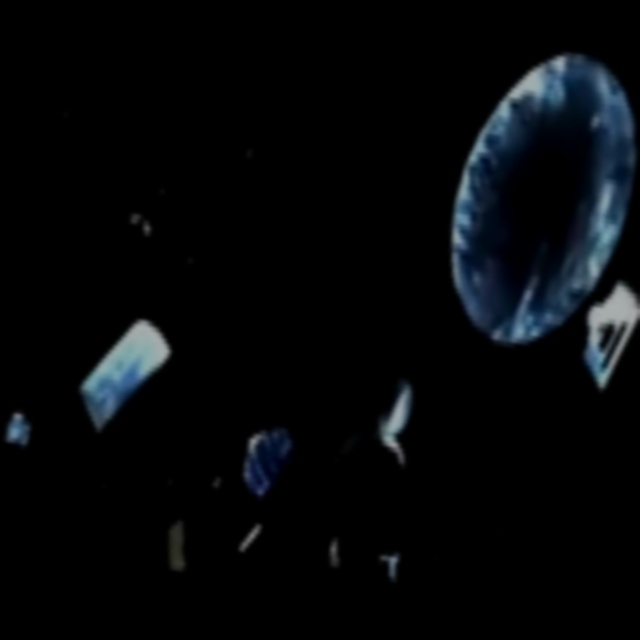large_debris: (417, 30, 640, 367)
medium_debris: (63, 309, 182, 451), (223, 414, 308, 511)
small_debris: (558, 271, 640, 405), (360, 373, 426, 480), (150, 517, 201, 583), (363, 536, 412, 602), (219, 514, 274, 566), (0, 397, 48, 455), (307, 530, 355, 583), (112, 202, 162, 250), (80, 466, 122, 510), (142, 467, 187, 506)
